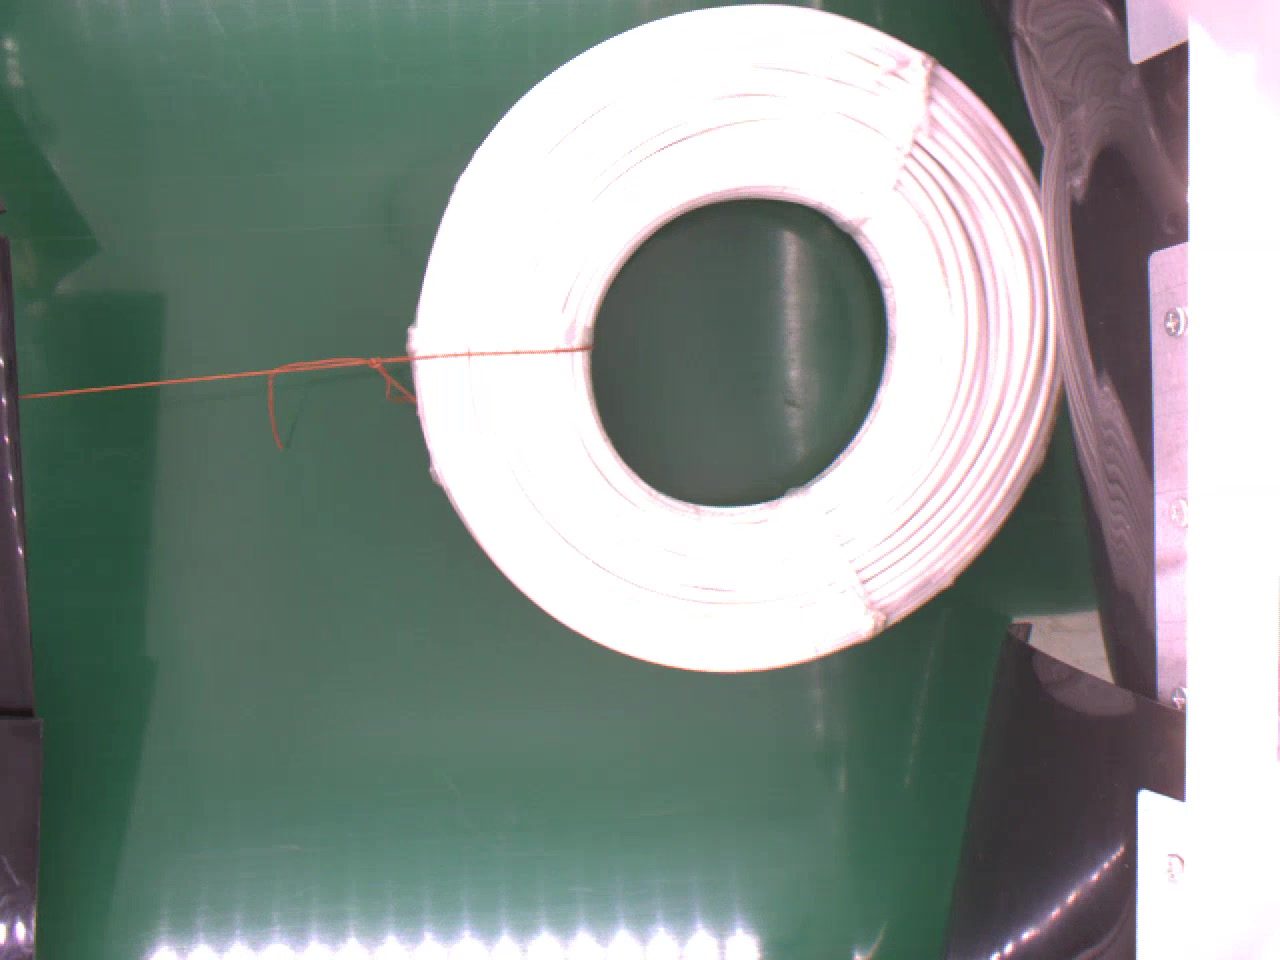white: (408, 1, 1070, 674)
